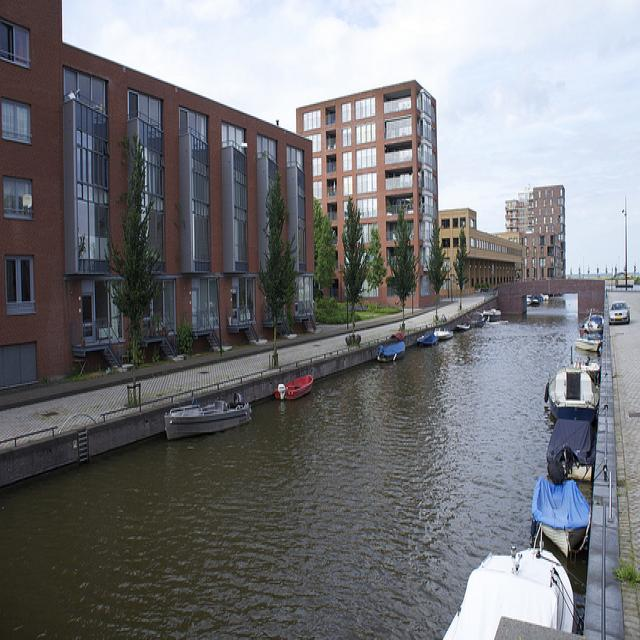Vehicle: (609, 302, 630, 325)
